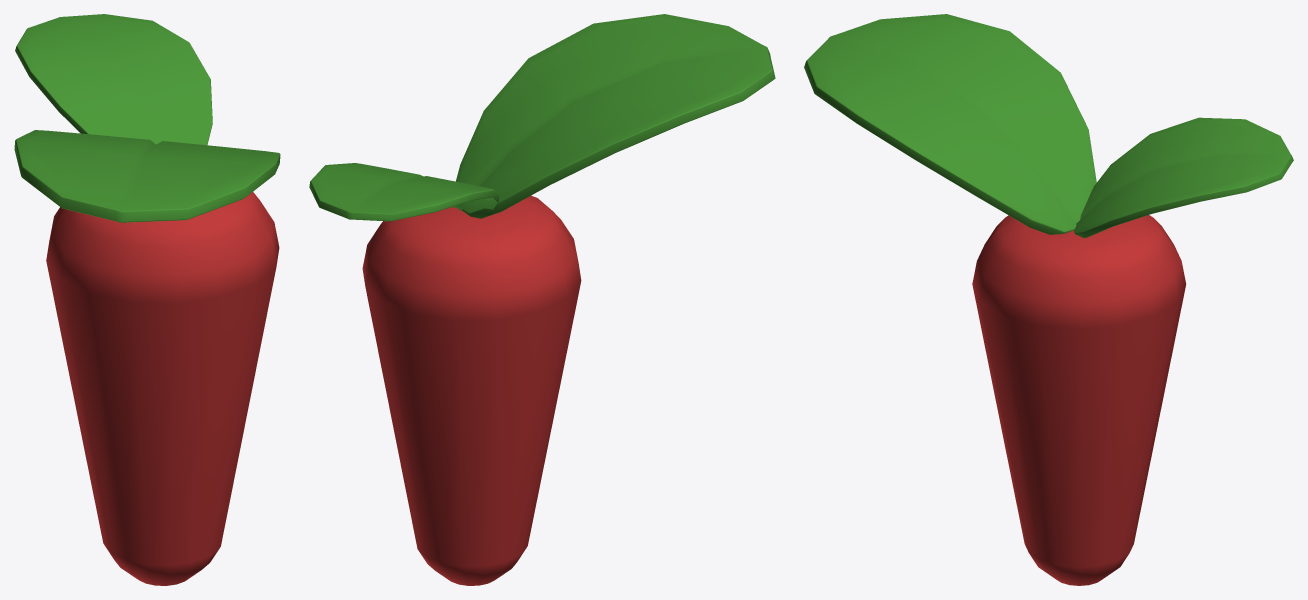
File: Beet_1.glb
3 views of the same model, side by side, from view 1: azimuth 30°, elevation 25°; view 2: azimuth 150°, elevation 25°; view 3: azimuth 270°, elevation 25° (orthographic). The views are drawn at different scales.
Visible parts, largest first — view 1: Beet_1; view 2: Beet_1; view 3: Beet_1.
Part boxes in pixels (x1,y1,x2,y2): Beet_1: [14, 14, 280, 585]; Beet_1: [309, 14, 775, 585]; Beet_1: [804, 14, 1293, 585].
Size of the model in its own units: 0.1903 by 0.2972 by 0.2795.
1 material, 1 textured.
